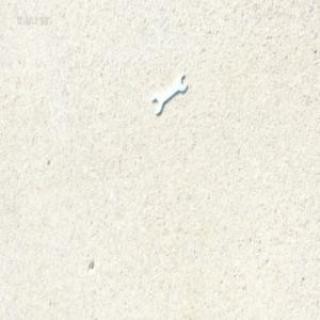Wrenchtrack_idkeyframe: (152, 73, 187, 115)
